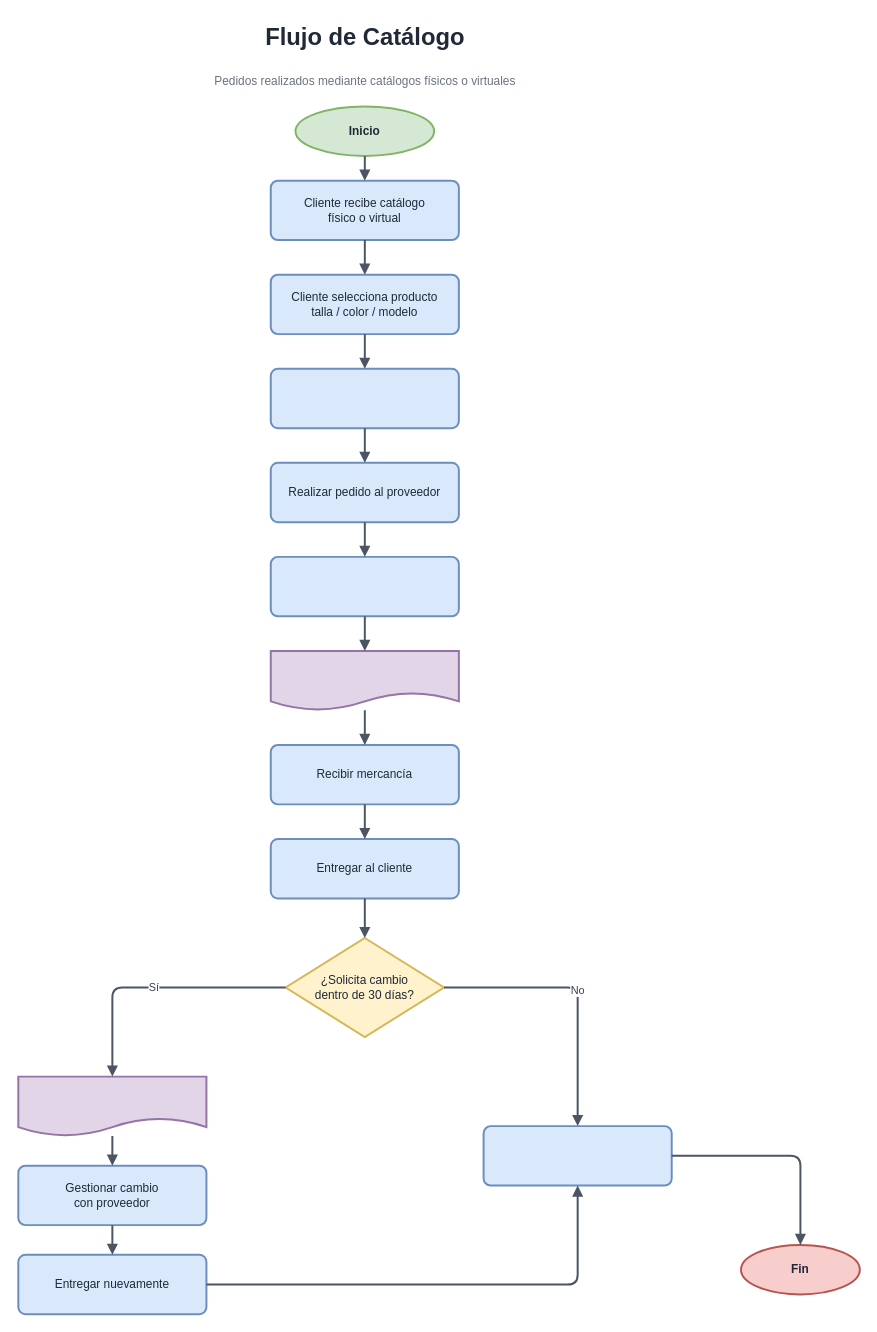
Some shapes in this 877 by 1332 pixel diagram are drawn without their labels. Here are the shapes that lost their labels. From the top down, the box of each, then its label:
(269, 367, 459, 429): Registrar pedido de catálogo
(269, 555, 459, 617): Registrar compra Origen: Catálogo
(269, 649, 459, 711): Adjuntar comprobante de compra
(17, 1075, 207, 1137): Buscar comprobante asociado
(482, 1125, 672, 1186): Registrar venta / cobro
